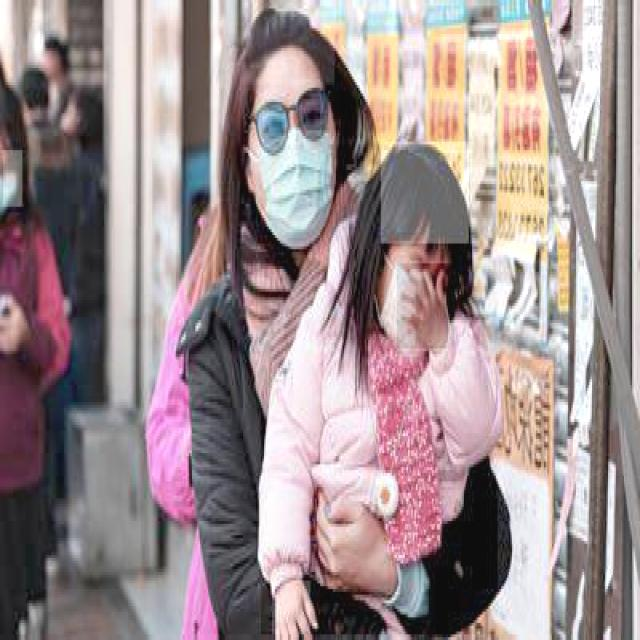face_mask: (250, 82, 339, 246), (381, 244, 453, 354), (1, 150, 22, 210)
glasses: (253, 78, 336, 151)
hand_noglove: (308, 484, 390, 606), (397, 264, 454, 348), (270, 581, 310, 637)
head_nohelmet: (379, 142, 469, 246), (246, 11, 334, 85)
person: (208, 28, 470, 637), (259, 145, 498, 637)
